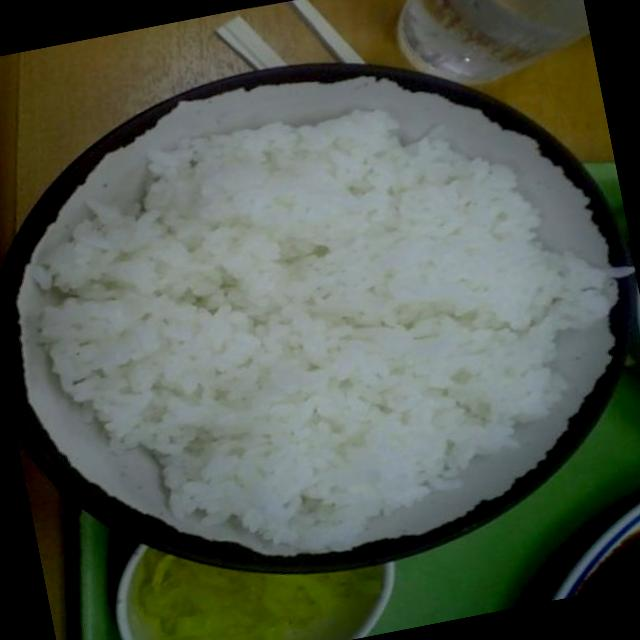Rice: (20, 62, 612, 562)
